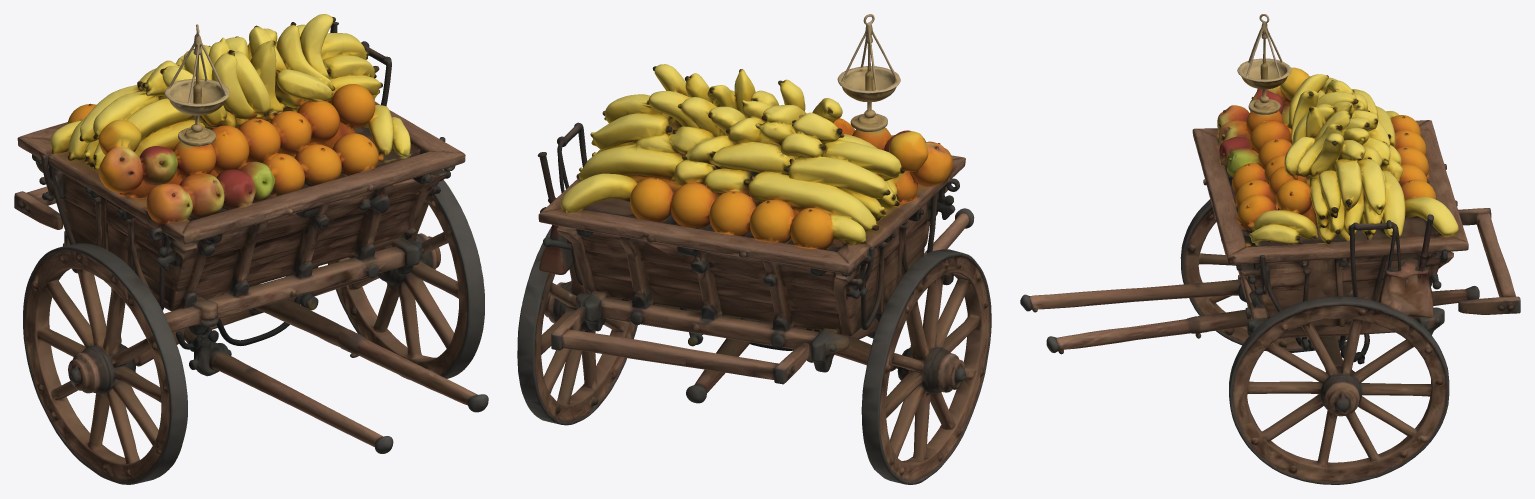
The model's file is thela.glb.
3 views of the same model, side by side, from view 1: azimuth 30°, elevation 25°; view 2: azimuth 150°, elevation 25°; view 3: azimuth 270°, elevation 25° (orthographic). The views are drawn at different scales.
Visible parts, largest first — view 1: tripo_node_d677a8cc-dbb5-4cd3-984c-4d2478b84672; view 2: tripo_node_d677a8cc-dbb5-4cd3-984c-4d2478b84672; view 3: tripo_node_d677a8cc-dbb5-4cd3-984c-4d2478b84672.
Part boxes in pixels (x1,y1,x2,y2): tripo_node_d677a8cc-dbb5-4cd3-984c-4d2478b84672: [14, 14, 488, 484]; tripo_node_d677a8cc-dbb5-4cd3-984c-4d2478b84672: [517, 14, 991, 484]; tripo_node_d677a8cc-dbb5-4cd3-984c-4d2478b84672: [1020, 14, 1520, 484].
Bounding box in the file's own units: 1.04 × 1.1 × 1.36.
1 material, 1 textured.
